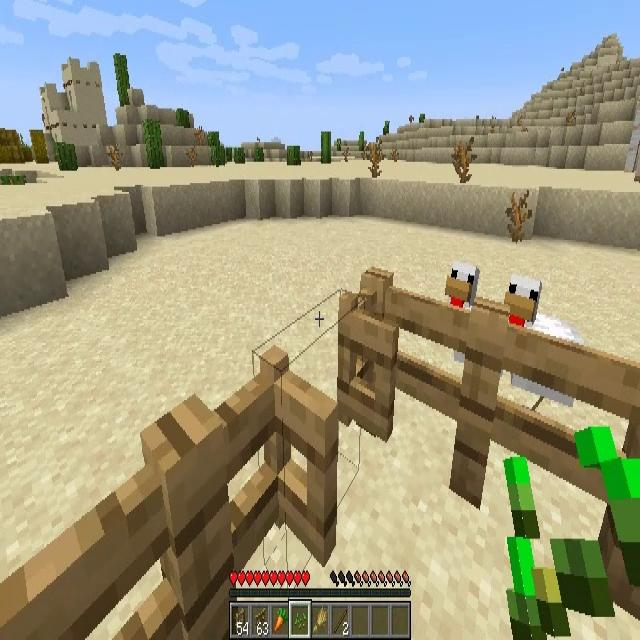duck: (504, 274, 584, 398), (443, 258, 507, 375)
